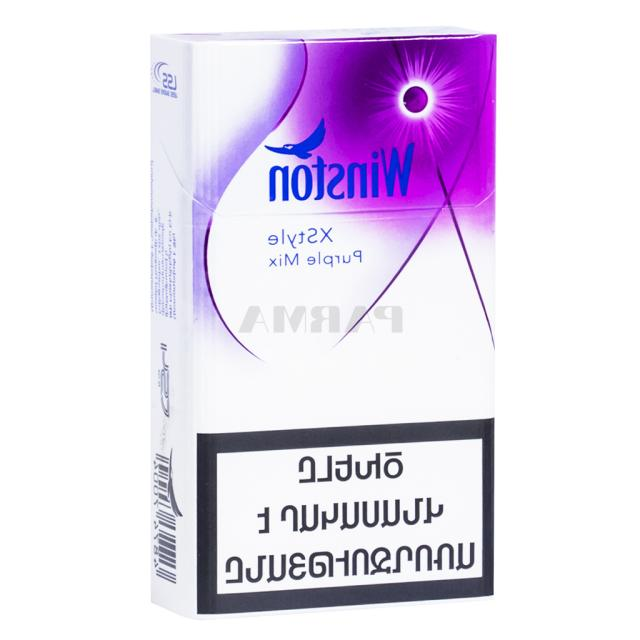winston: (132, 27, 504, 616)
